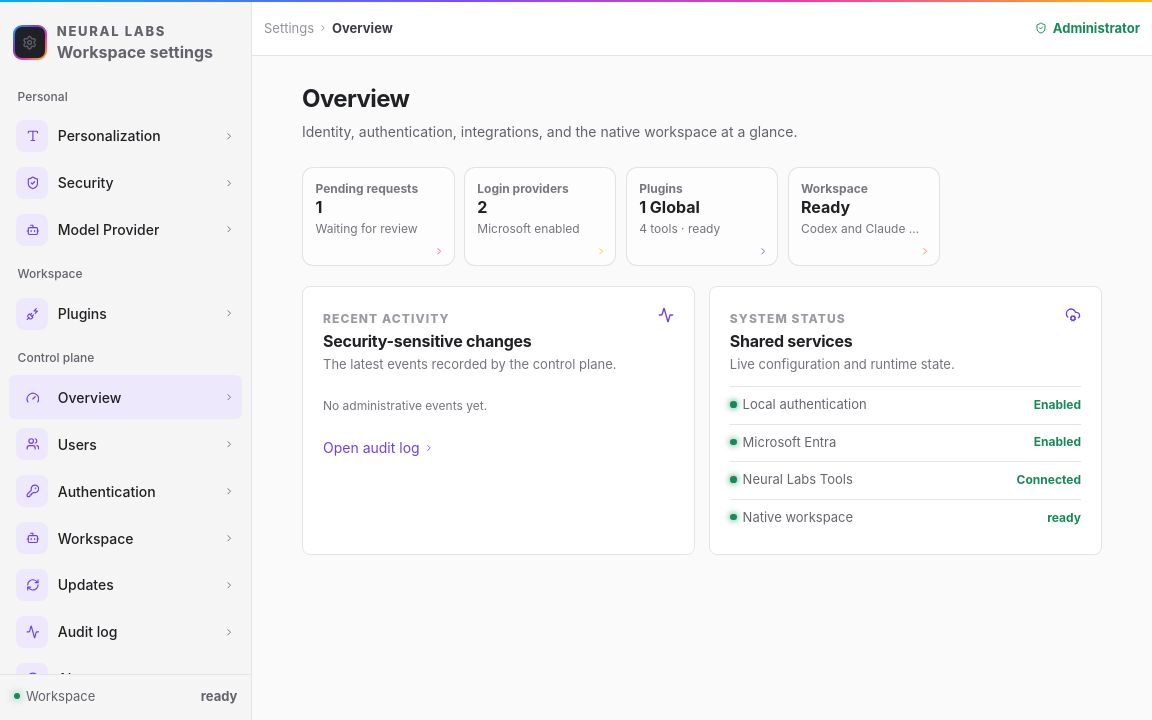
Test: Settings app › loads the control-plane overview and approves a pending user with CSRF
The image size is (1152, 720).
Expected: the heading "Overview" is shown, [302,84,409,114]
Expected: the button "Pending requests 1 Waiting for review" is shown, [302,167,455,266]
What coordinates should you click on to do the following:
click the button "Users"
I would click on:
 (126, 444)
Its box is [9,422,242,466].
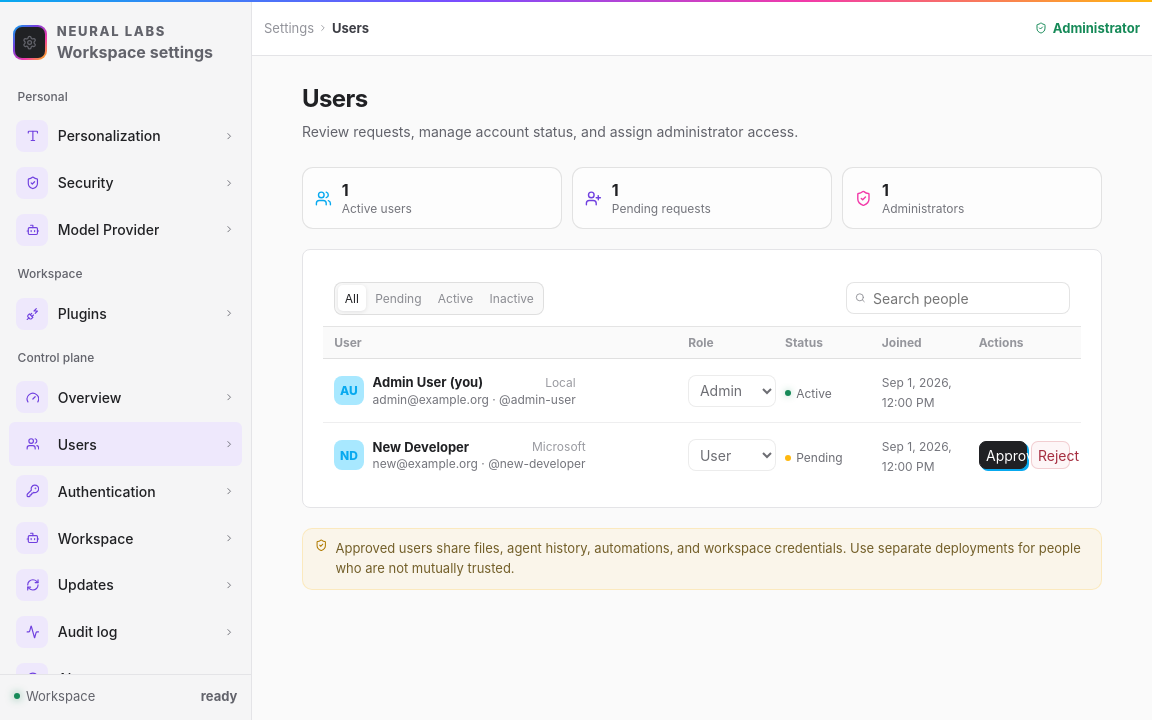
Expected: the text "New Developer" is shown, [373,439,469,455]
What coordinates should you click on to do the following:
click the button "Approve"
I would click on:
 (1003, 455)
Its box is [979,441,1026,470].
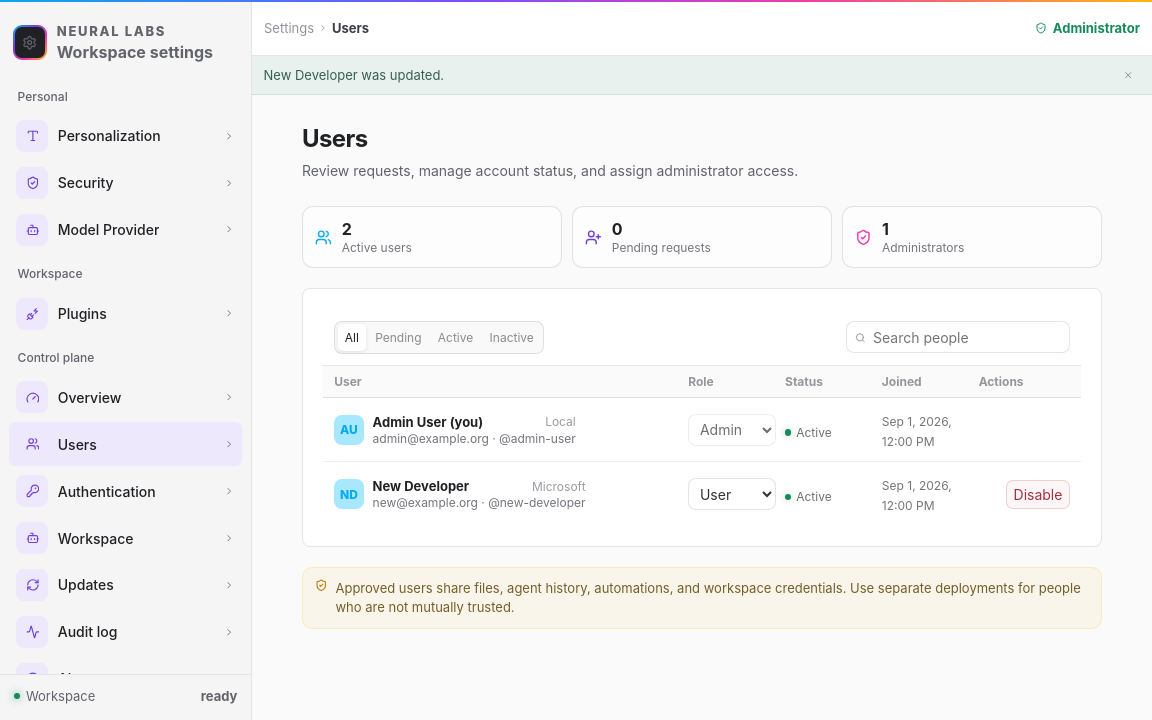
Expected: the text "New Developer was updated." is shown, [264,67,444,83]
